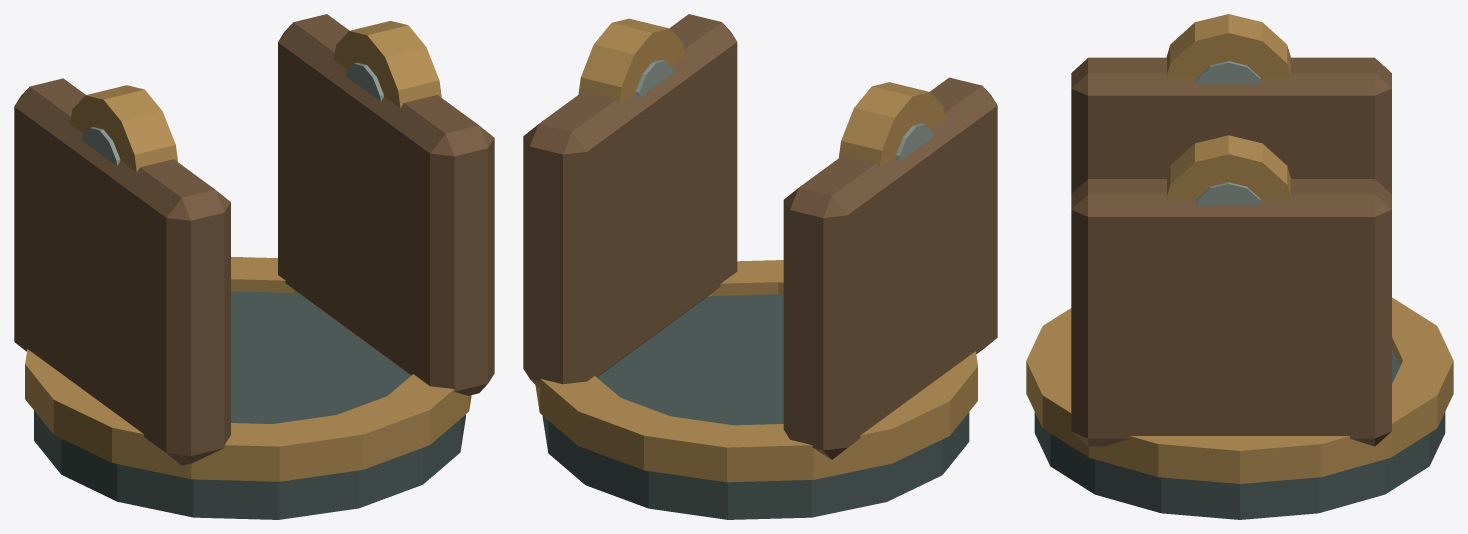
File: gun_mount.glb
The picture shows the model from 3 angles, left to right: view 1: azimuth 30°, elevation 25°; view 2: azimuth 150°, elevation 25°; view 3: azimuth 270°, elevation 25°; orthographic projection. The views are drawn at different scales.
Visible parts, largest first — view 1: Timber, Metal; view 2: Timber, Metal; view 3: Timber, Metal.
Boxes of the visible parts, bbox=[...] form: Timber: bbox=[14, 14, 494, 465]; Metal: bbox=[25, 21, 471, 519]; Timber: bbox=[523, 14, 997, 459]; Metal: bbox=[535, 18, 977, 519]; Timber: bbox=[1071, 57, 1391, 446]; Metal: bbox=[1026, 14, 1453, 519].
Size of the model in its own units: 1.52 by 1.37 by 1.52.
